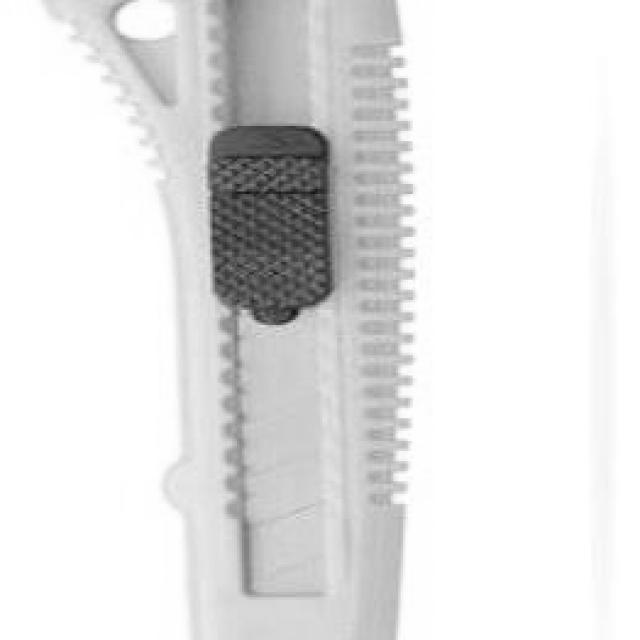estilete: (45, 0, 418, 640)
